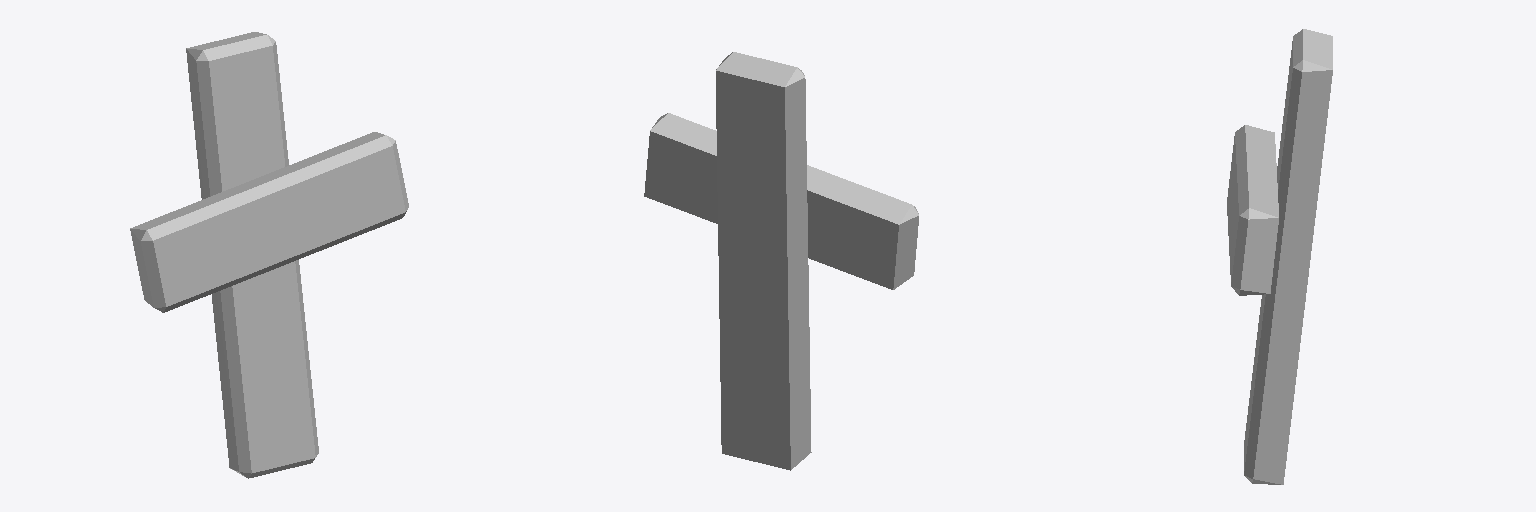
File: gravemarker_A.obj
3 renders of one model, left to right at view 1: azimuth 30°, elevation 25°; view 2: azimuth 150°, elevation 25°; view 3: azimuth 270°, elevation 25°, orthographic.
Visible parts, largest first — view 1: gravemarker_A_Cube.122; view 2: gravemarker_A_Cube.122; view 3: gravemarker_A_Cube.122.
Boxes of the visible parts, box(x1,y1,x2,y2) form: gravemarker_A_Cube.122: box(130, 32, 408, 478); gravemarker_A_Cube.122: box(644, 52, 918, 470); gravemarker_A_Cube.122: box(1227, 29, 1332, 484).
Size of the model in its own units: 0.806 by 1.2 by 0.2782.